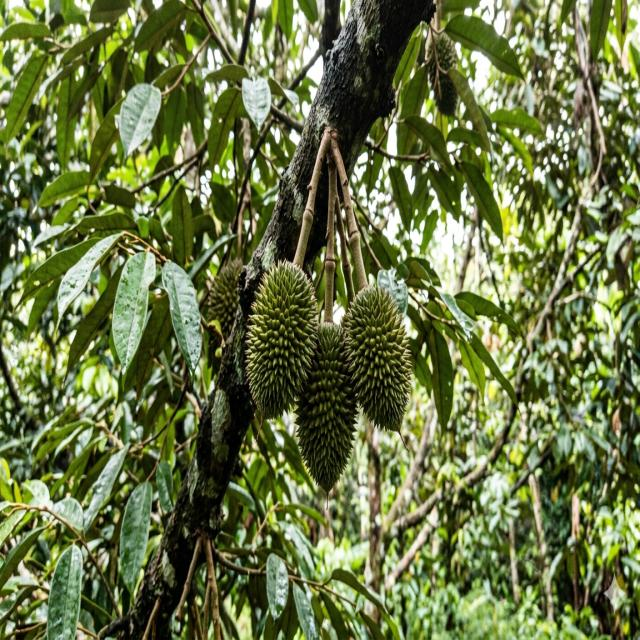immature: (244, 259, 319, 417), (293, 319, 359, 491), (343, 280, 413, 433), (205, 259, 243, 339), (425, 31, 458, 116)
